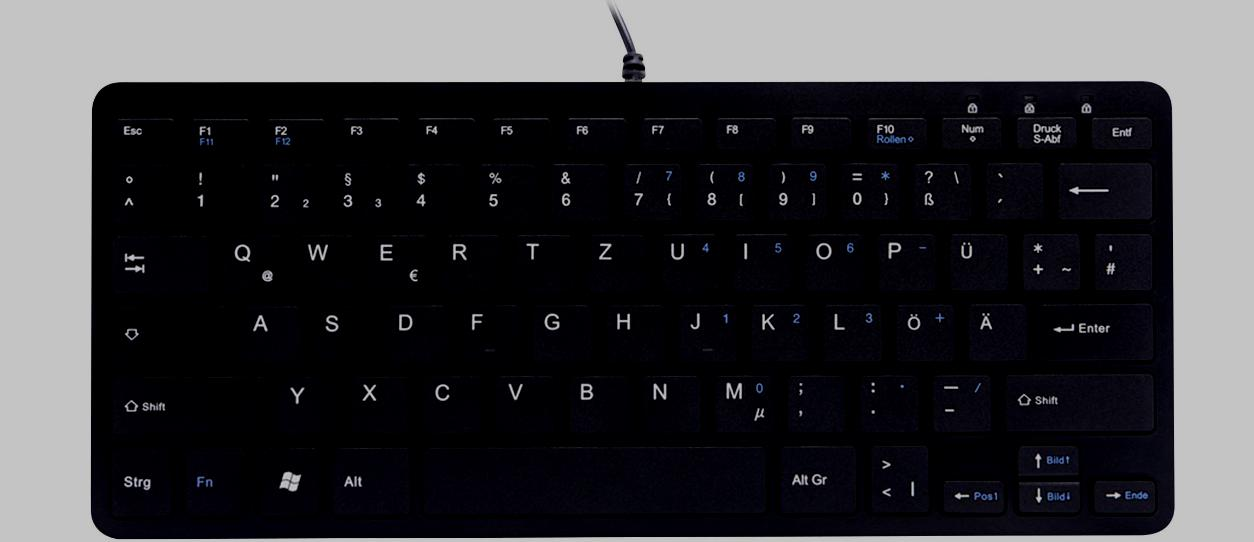0: (834, 156, 900, 221)
1: (180, 158, 246, 222)
2: (253, 157, 319, 222)
3: (325, 157, 392, 222)
4: (399, 156, 463, 221)
5: (471, 157, 536, 221)
6: (543, 157, 610, 221)
7: (617, 157, 683, 222)
8: (690, 158, 755, 221)
9: (762, 157, 828, 221)
a: (234, 299, 301, 363)
accent: (979, 155, 1042, 219)
ae: (961, 296, 1027, 361)
alt-left: (325, 439, 411, 516)
altgr-right: (772, 438, 857, 514)
b: (561, 368, 629, 433)
c: (415, 369, 483, 434)
caret: (106, 158, 172, 222)
comma: (780, 367, 845, 432)
d: (379, 298, 446, 363)
del: (1051, 155, 1153, 219)
e: (362, 228, 429, 293)
enter: (1032, 295, 1154, 360)
f: (452, 298, 518, 362)
g: (525, 298, 591, 362)
h: (598, 298, 664, 362)
hash: (1088, 226, 1153, 290)
i: (726, 227, 792, 291)
j: (671, 297, 737, 362)
k: (745, 297, 809, 362)
keyboard: (83, 76, 1180, 537)
l: (817, 297, 882, 362)
less: (863, 438, 930, 515)
m: (707, 368, 775, 434)
minus: (925, 367, 991, 432)
n: (634, 368, 700, 433)
o: (797, 227, 864, 292)
oe: (889, 297, 954, 362)
p: (870, 226, 937, 292)
plus: (1015, 226, 1080, 290)
point: (853, 367, 919, 432)
q: (215, 228, 284, 293)
r: (435, 228, 501, 292)
s: (306, 298, 373, 363)
shift-left: (106, 367, 265, 434)
shift-lock: (106, 298, 228, 363)
shift-right: (998, 366, 1155, 432)
space: (418, 438, 766, 516)
ss: (906, 156, 972, 220)
strg-left: (104, 440, 173, 517)
t: (508, 228, 573, 292)
tab: (106, 228, 209, 293)
u: (652, 226, 719, 293)
ue: (942, 225, 1008, 292)
v: (489, 368, 556, 434)
w: (289, 227, 355, 293)
x: (344, 369, 411, 434)
y: (271, 369, 336, 435)
z: (580, 227, 646, 292)
